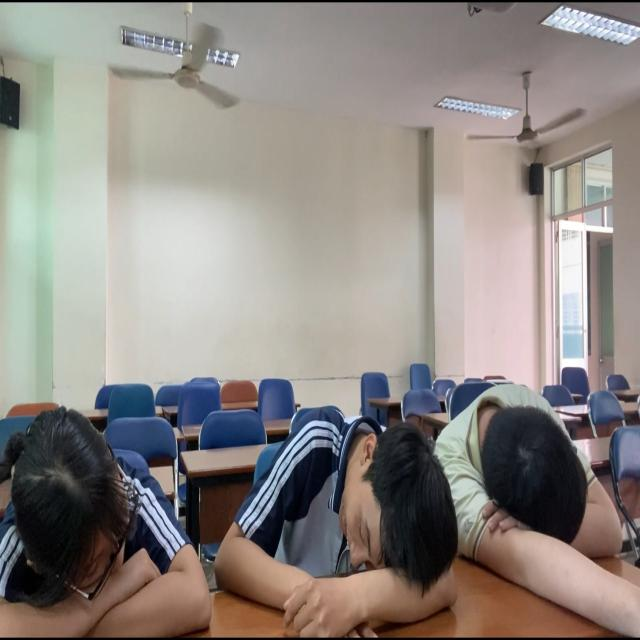sleep: (423, 379, 640, 640), (228, 407, 458, 640), (2, 413, 214, 640)
